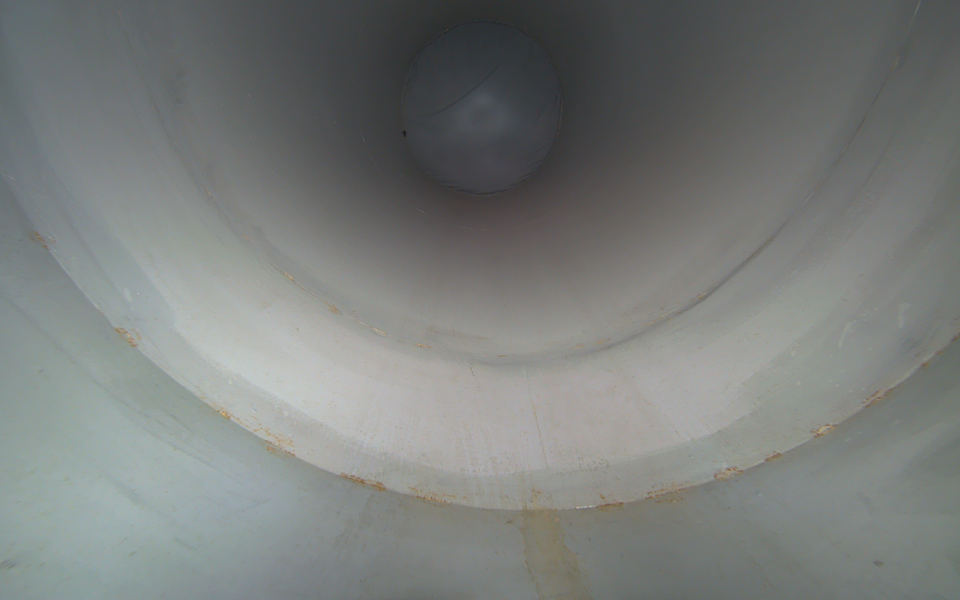circle1: (0, 0, 960, 512)
circle2: (395, 20, 567, 197)
